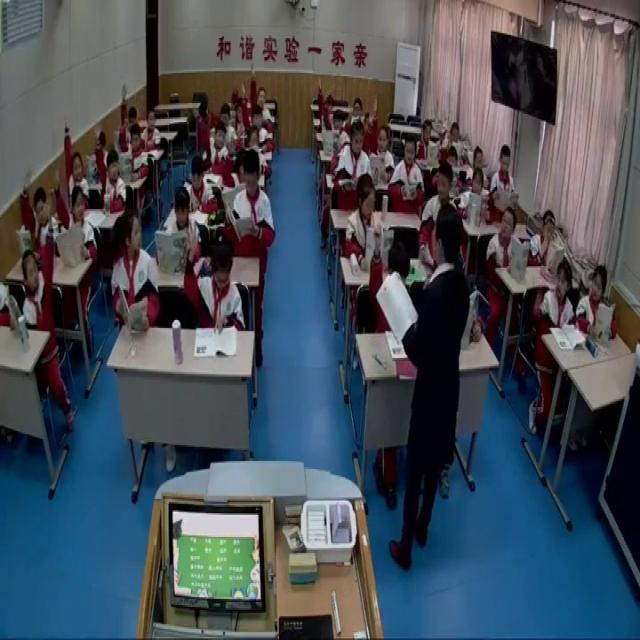distracted: (109, 212, 161, 338), (422, 161, 459, 258), (577, 260, 619, 340), (538, 255, 574, 334), (485, 205, 526, 266)
focused: (346, 172, 379, 263), (388, 135, 424, 218), (337, 125, 372, 210), (488, 139, 522, 218), (161, 187, 198, 254), (187, 156, 221, 221), (528, 212, 562, 268), (460, 165, 488, 223), (140, 106, 163, 152), (467, 144, 490, 188), (443, 118, 465, 160)
raising_hand: (183, 220, 247, 328), (54, 166, 100, 264), (22, 207, 56, 332), (370, 214, 400, 338), (20, 163, 57, 257), (94, 120, 128, 217), (191, 104, 229, 180), (240, 80, 275, 159), (64, 121, 92, 210), (371, 90, 396, 184), (119, 120, 150, 186), (349, 91, 383, 139), (250, 66, 274, 133), (224, 142, 254, 191), (316, 76, 342, 132), (120, 84, 141, 139), (416, 117, 438, 164)
